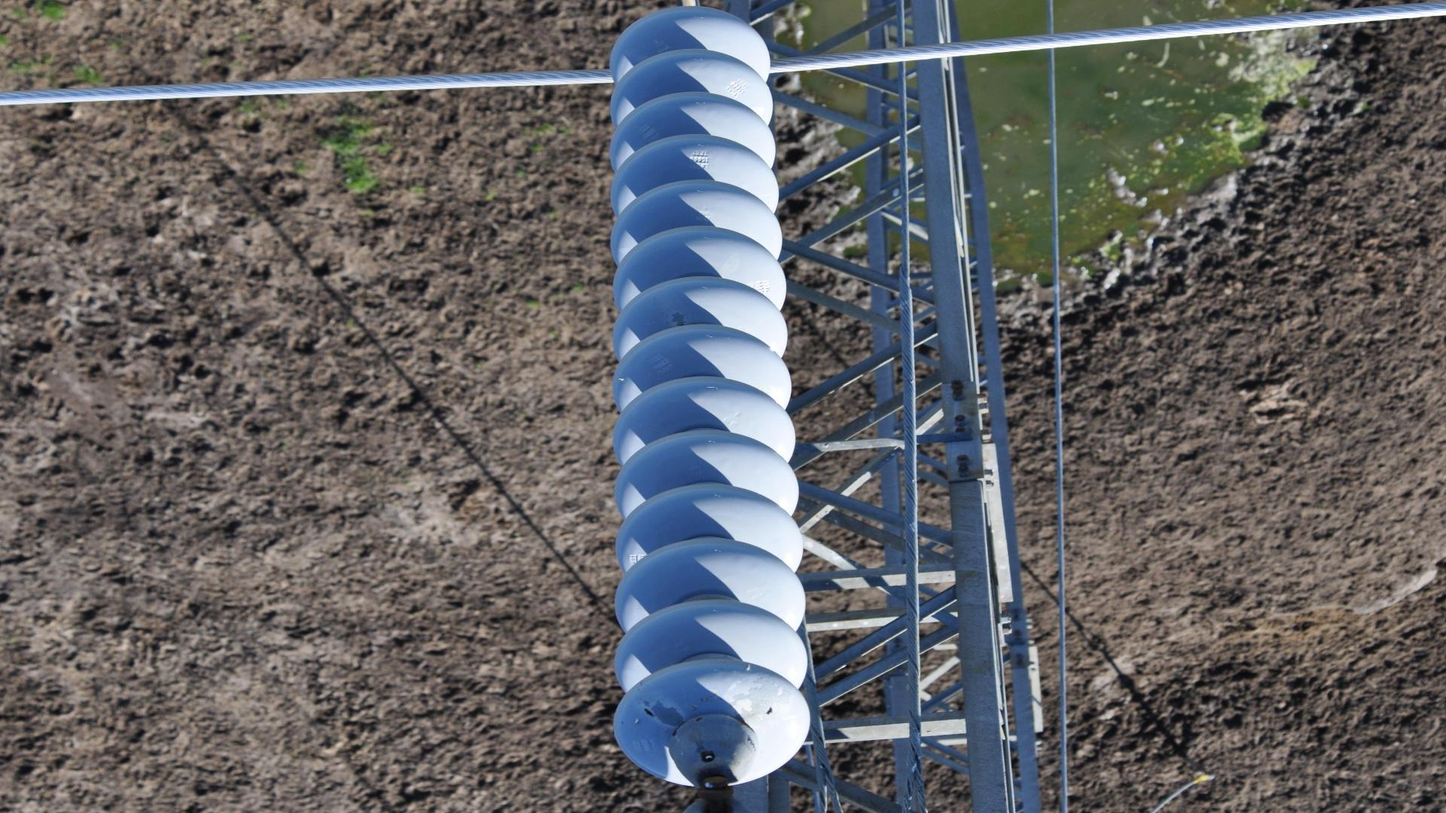insulator: (604, 5, 821, 793)
insulator_flashover: (742, 674, 807, 729), (644, 699, 687, 732)
